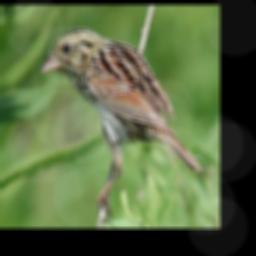Sparrow: (39, 25, 203, 214)
